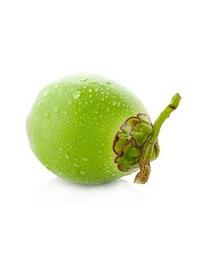coconut: (25, 74, 160, 187)
